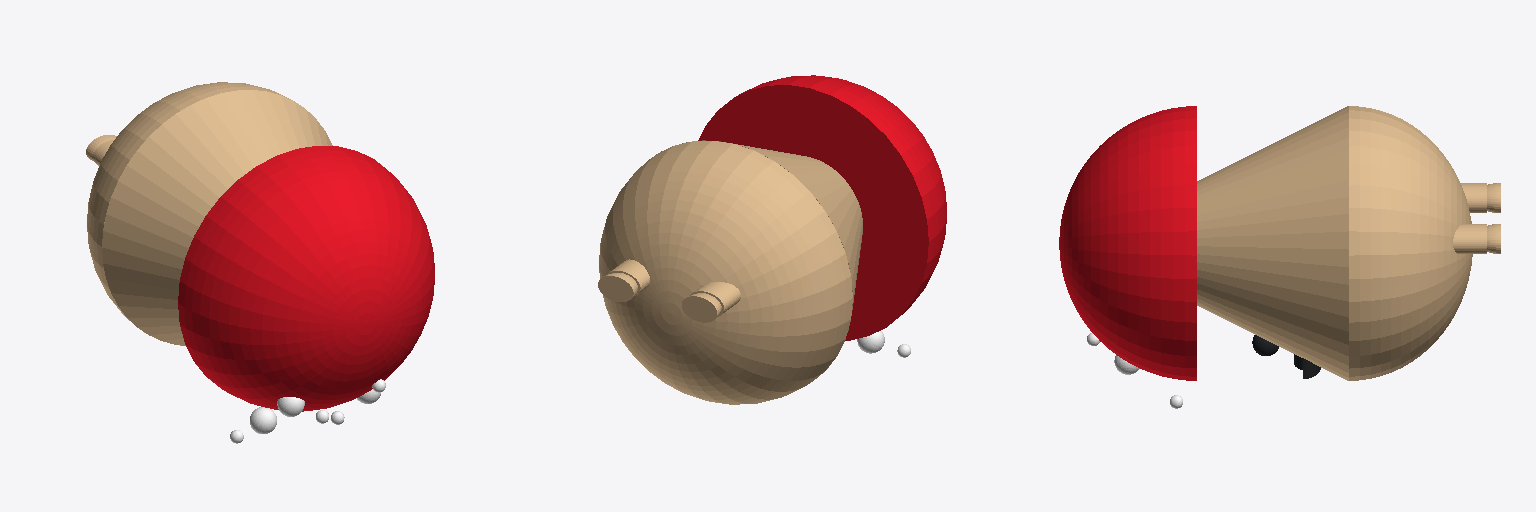
File: tinker.obj
3 renders of one model, left to right at view 1: azimuth 30°, elevation 25°; view 2: azimuth 150°, elevation 25°; view 3: azimuth 270°, elevation 25°, orthographic.
Visible parts, largest first — view 1: obj_4, obj_3, obj_0, obj_12; view 2: obj_0, obj_4, obj_3, obj_1, obj_2; view 3: obj_3, obj_4, obj_0, obj_2, obj_1.
Boxes of the visible parts, x1=… form: obj_4: x1=178, y1=146, x2=434, y2=411; obj_3: x1=102, y1=90, x2=332, y2=345; obj_0: x1=87, y1=82, x2=290, y2=345; obj_12: x1=250, y1=407, x2=276, y2=433; obj_0: x1=599, y1=141, x2=852, y2=404; obj_4: x1=698, y1=75, x2=946, y2=340; obj_3: x1=647, y1=140, x2=862, y2=378; obj_1: x1=682, y1=282, x2=740, y2=322; obj_2: x1=598, y1=259, x2=649, y2=301; obj_3: x1=1197, y1=106, x2=1348, y2=380; obj_4: x1=1059, y1=106, x2=1196, y2=380; obj_0: x1=1349, y1=106, x2=1472, y2=380; obj_2: x1=1453, y1=224, x2=1500, y2=253; obj_1: x1=1461, y1=183, x2=1500, y2=212.
Bounding box in the file's own units: 20 × 22 × 32.